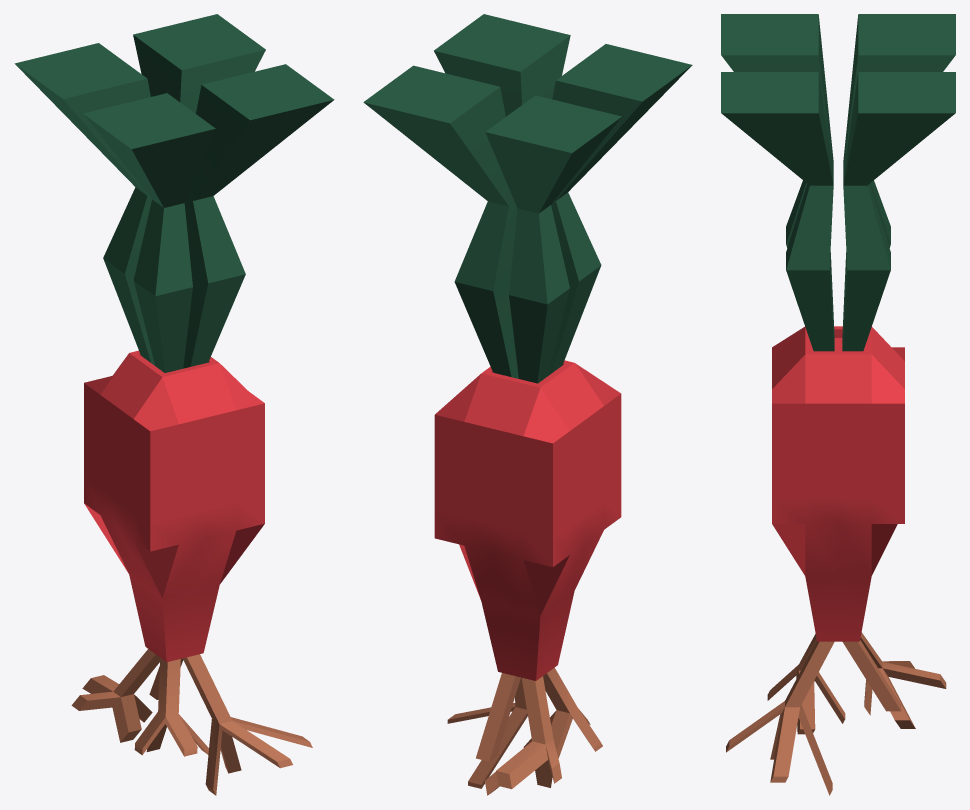
File: raddish.fbx
3 renders of one model, left to right at view 1: azimuth 30°, elevation 25°; view 2: azimuth 150°, elevation 25°; view 3: azimuth 270°, elevation 25°, orthographic. The views are drawn at different scales.
Visible parts, largest first — view 1: raddish; view 2: raddish; view 3: raddish.
Boxes of the visible parts, left/top/right/bottom form: raddish: left=14, top=14, right=334, bottom=795; raddish: left=363, top=14, right=692, bottom=795; raddish: left=721, top=14, right=955, bottom=795.
Bounding box in the file's own units: 359 × 1165 × 353.
